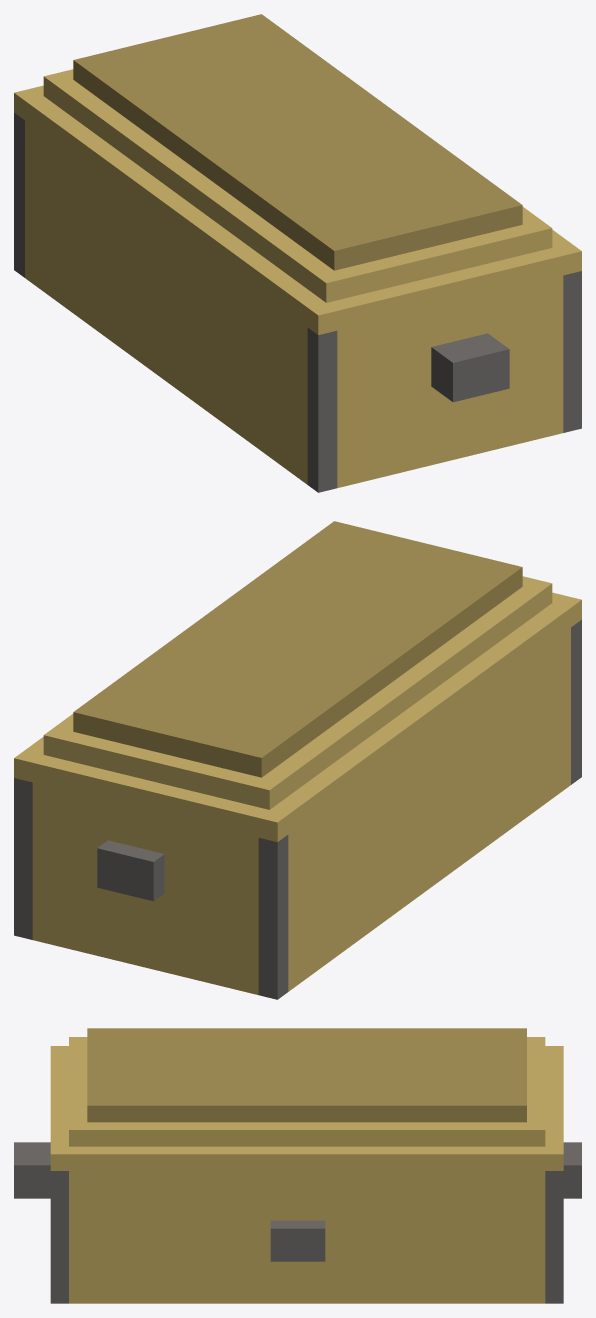
Rendered from tonel_hidromiel_gremial_01.glb.
3 views of the same model, one above another, from view 1: azimuth 30°, elevation 25°; view 2: azimuth 150°, elevation 25°; view 3: azimuth 270°, elevation 25° (orthographic). The views are drawn at different scales.
Parts seen in each view (by area): view 1: tonel_hidromiel_gremial; view 2: tonel_hidromiel_gremial; view 3: tonel_hidromiel_gremial.
Part boxes in pixels (box(x1,y1,x2,y2)): tonel_hidromiel_gremial: box(14, 14, 581, 492); tonel_hidromiel_gremial: box(14, 521, 581, 999); tonel_hidromiel_gremial: box(14, 1028, 581, 1303).
Size of the model in its own units: 1.07 by 0.7857 by 2.21.
